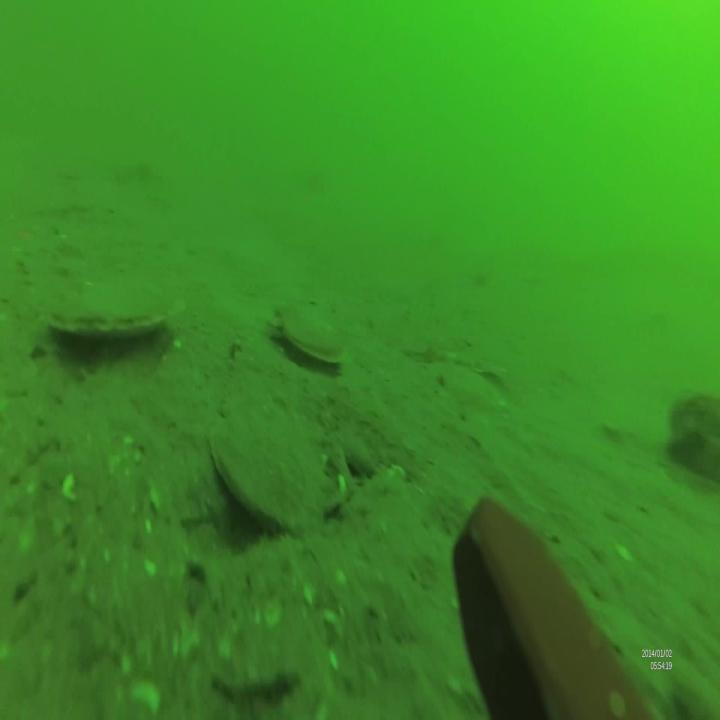scallop: (206, 415, 328, 535), (49, 284, 189, 346), (266, 298, 350, 369)
